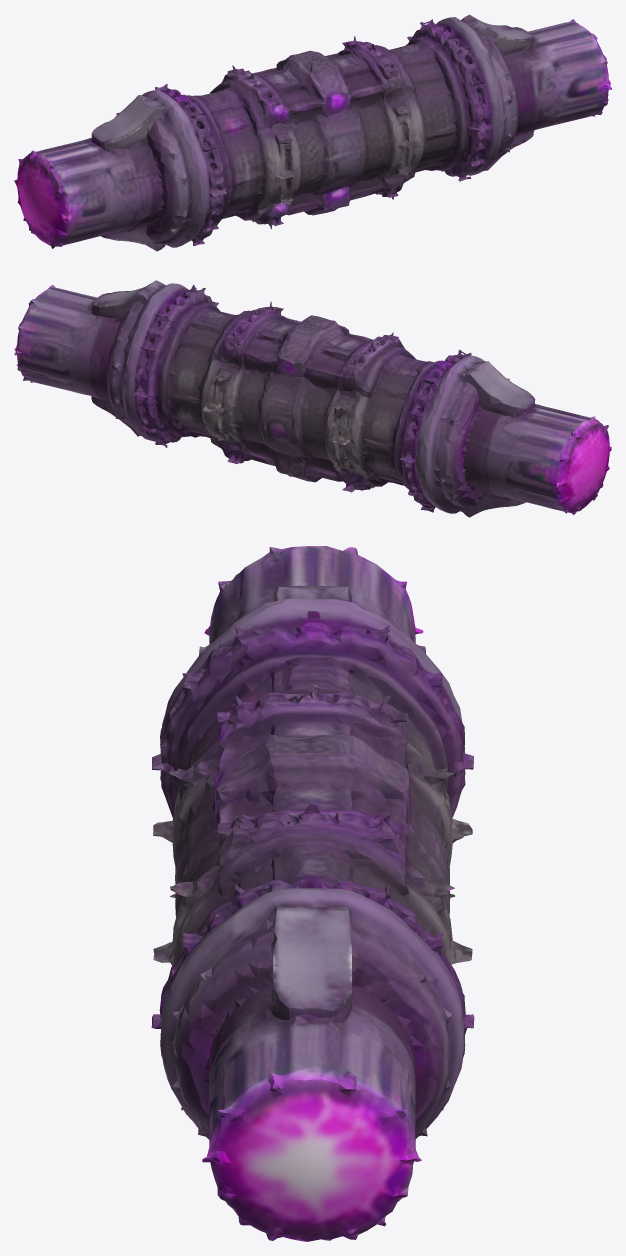
File: kraken_weapon_primary.glb
The picture shows the model from 3 angles, top to bottom: view 1: azimuth 30°, elevation 25°; view 2: azimuth 150°, elevation 25°; view 3: azimuth 270°, elevation 25°; orthographic projection. The views are drawn at different scales.
Visible parts, largest first — view 1: kraken_weapon_primary; view 2: kraken_weapon_primary; view 3: kraken_weapon_primary.
Part boxes in pixels (box(x1,y1,x2,y2)): kraken_weapon_primary: box(14, 14, 611, 251); kraken_weapon_primary: box(14, 280, 611, 517); kraken_weapon_primary: box(151, 546, 474, 1241).
Bounding box in the file's own units: 1.89 × 0.479 × 0.4706.
1 material, 1 textured.
